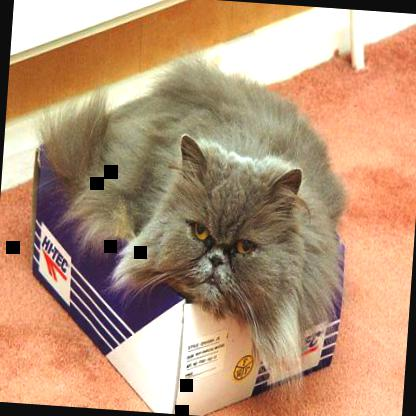cat: (24, 46, 355, 358)
